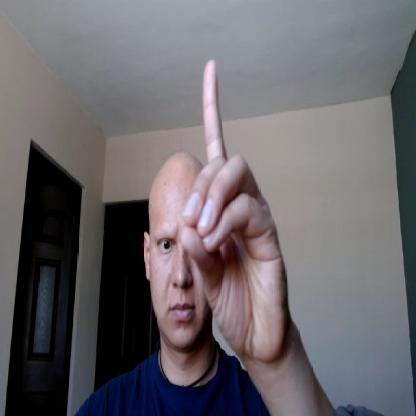D: (181, 58, 288, 360)
